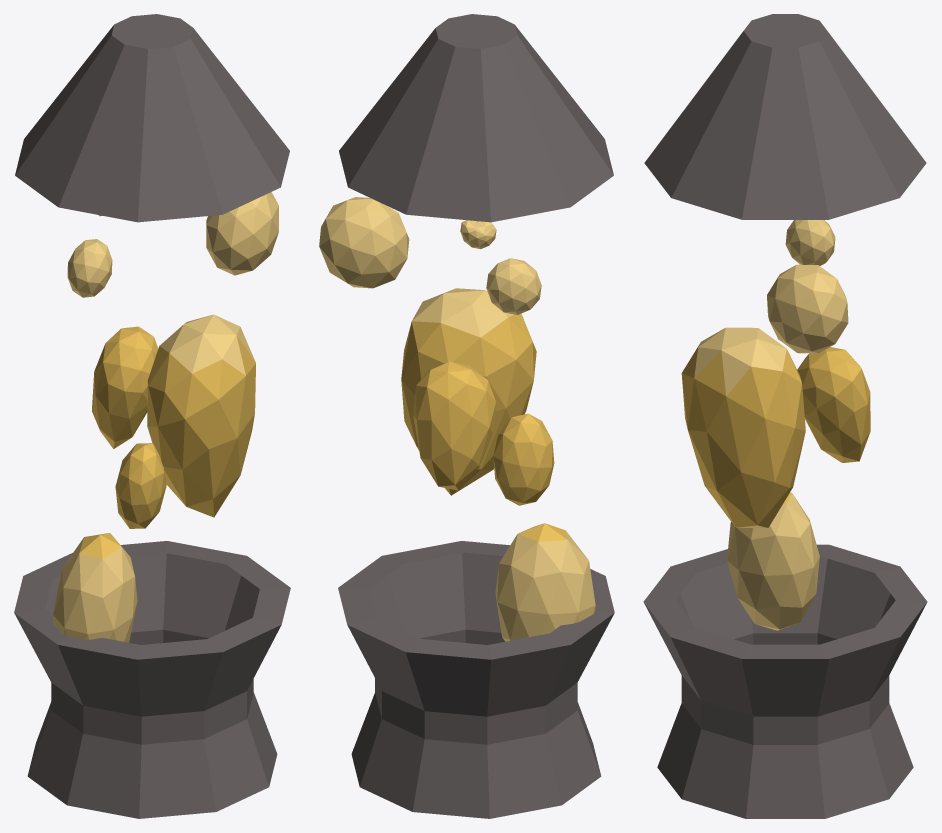
Rendered from lampara_c.fbx.
The picture shows the model from 3 angles, left to right: view 1: azimuth 30°, elevation 25°; view 2: azimuth 150°, elevation 25°; view 3: azimuth 270°, elevation 25°; orthographic projection.
Parts seen in each view (by area): view 1: Icosphere.001; view 2: Icosphere.001; view 3: Icosphere.001.
Boxes of the visible parts, left/top/right/bottom form: Icosphere.001: left=14, top=14, right=290, bottom=818; Icosphere.001: left=319, top=14, right=614, bottom=818; Icosphere.001: left=643, top=14, right=927, bottom=818.
Bounding box in the file's own units: 48.73 × 134 × 47.
